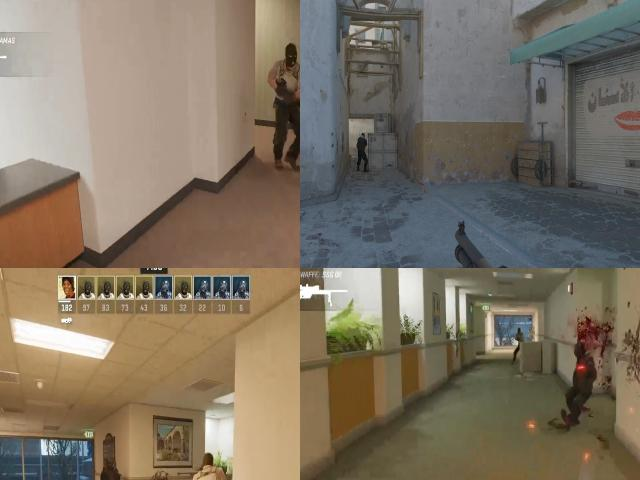CT: (100, 466, 123, 480), (357, 133, 366, 168)
CT-Head: (105, 459, 116, 475), (361, 133, 365, 137)
Dead: (560, 338, 600, 430)
T: (265, 34, 300, 124), (186, 465, 229, 480), (200, 450, 218, 469), (515, 322, 525, 347)
T-Head: (282, 39, 300, 70), (515, 324, 525, 339)
